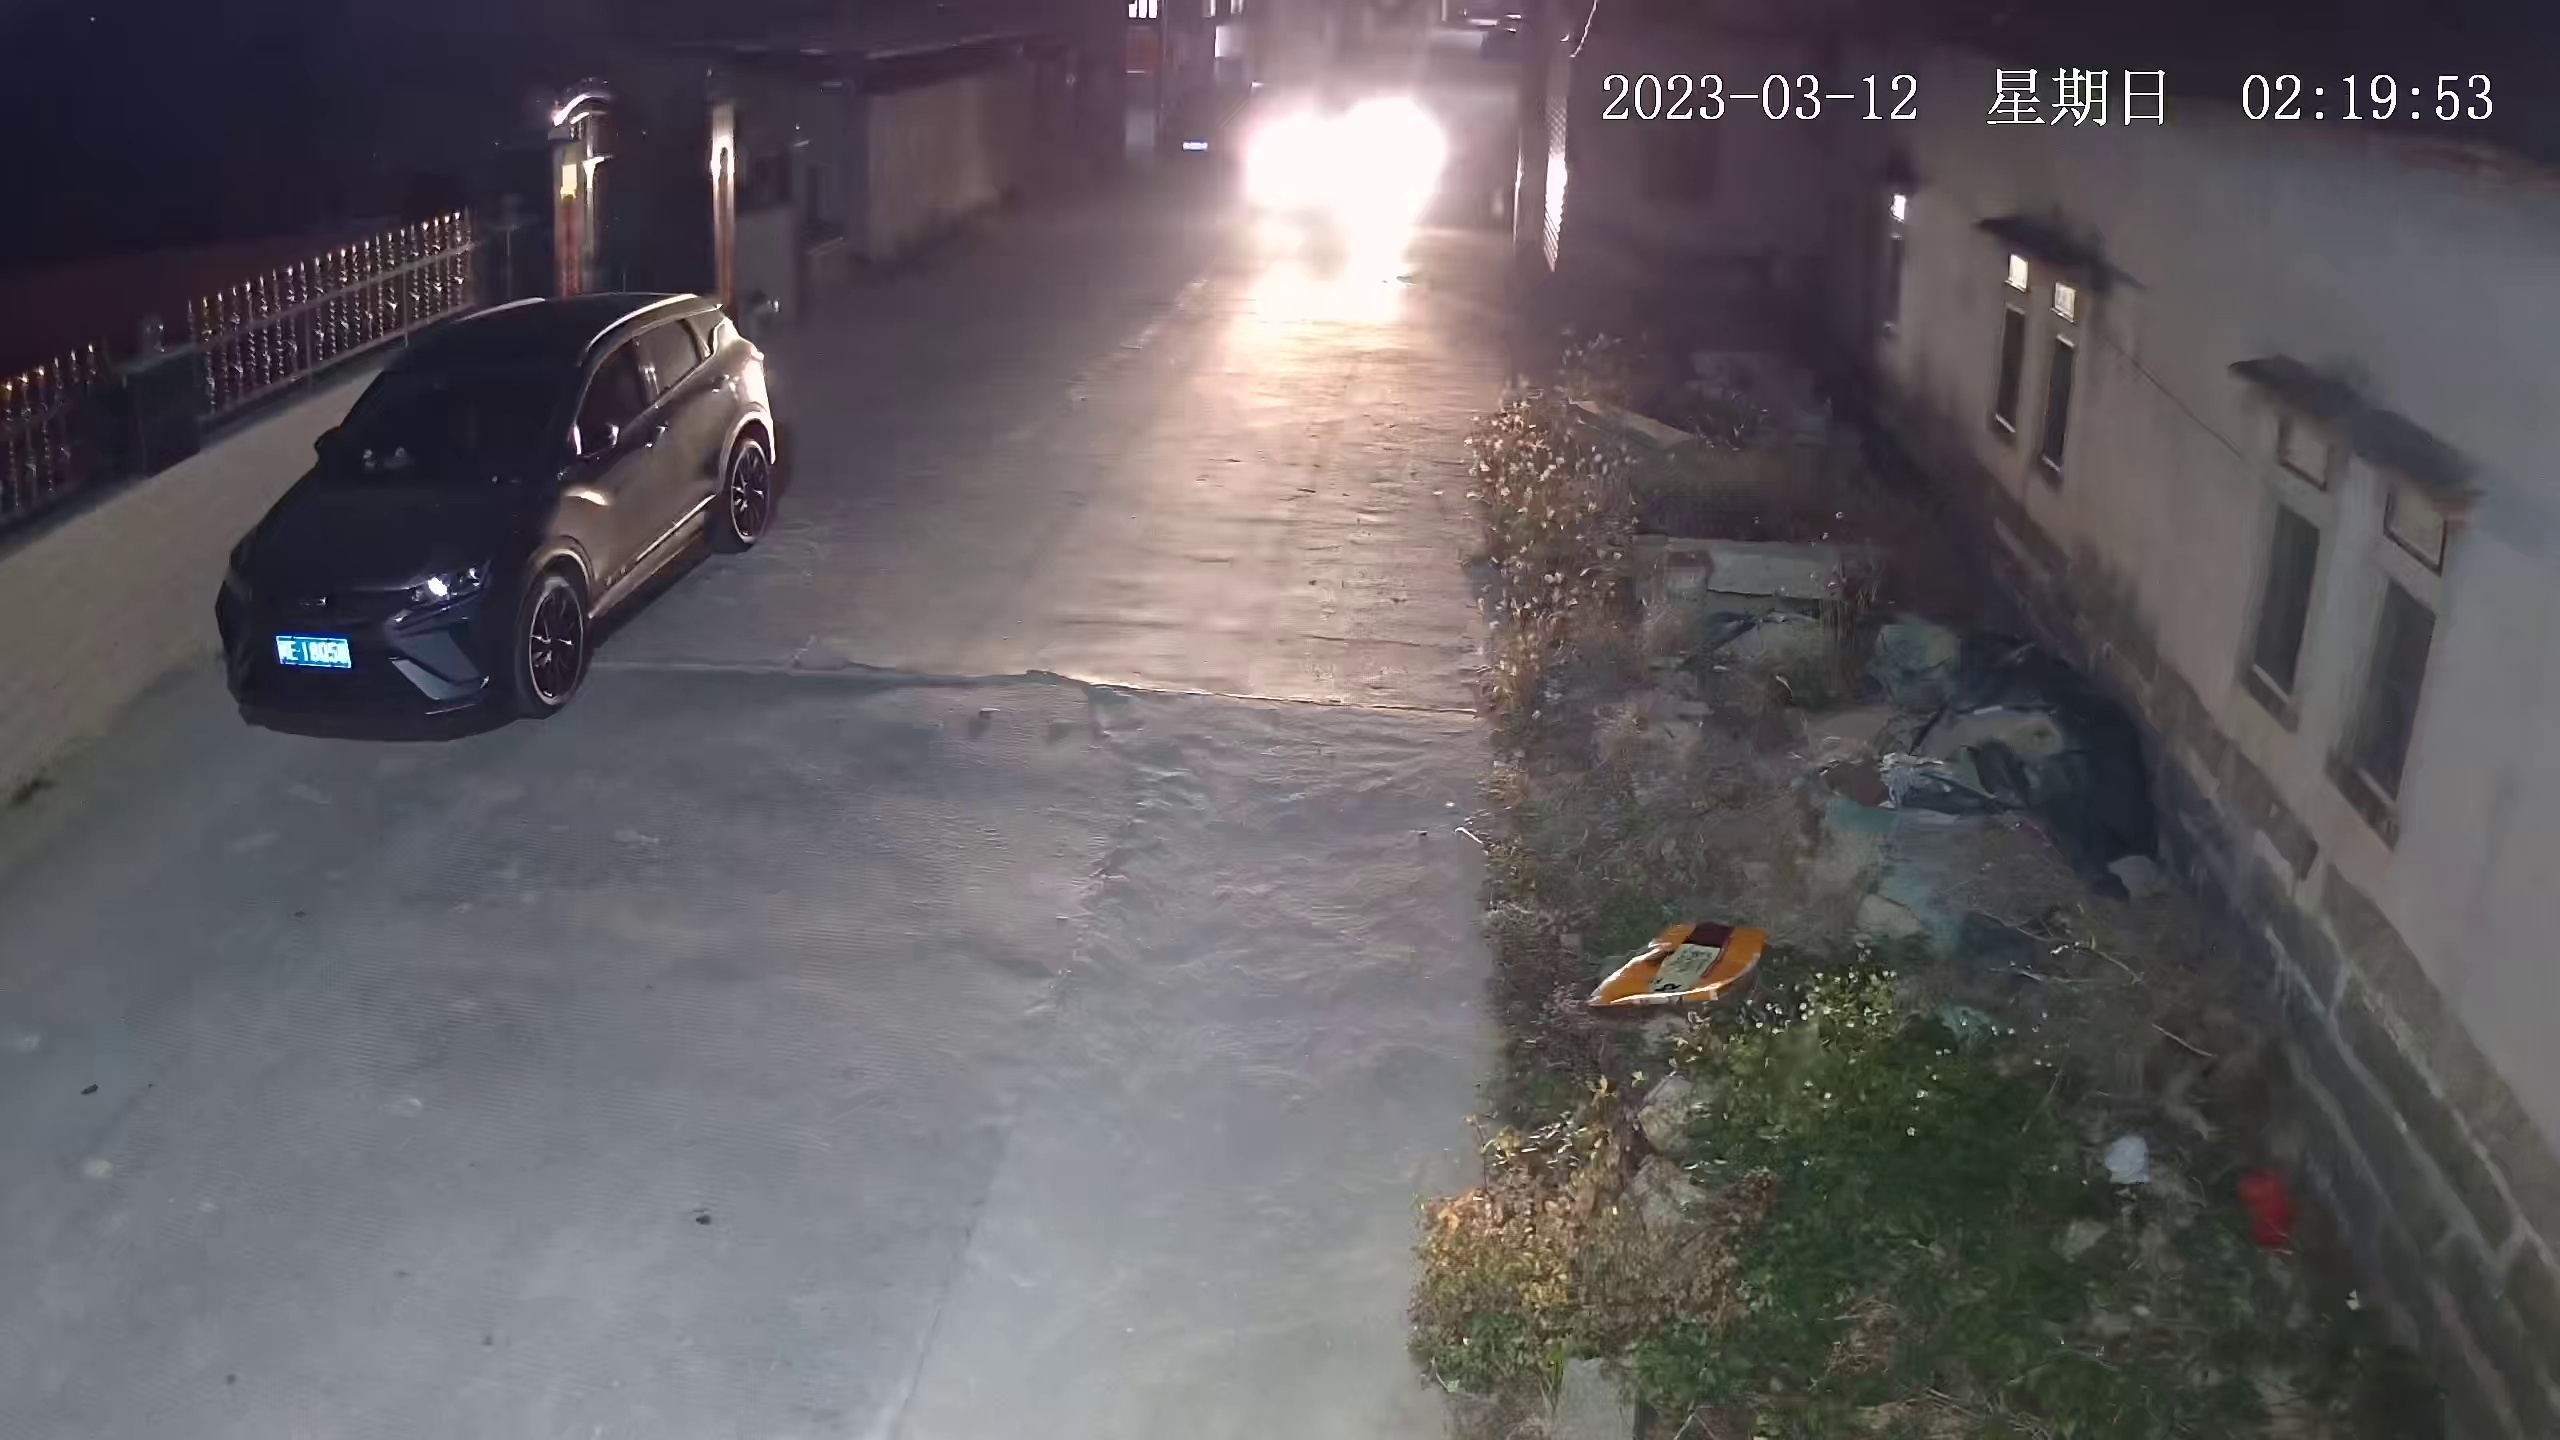sedan: (1255, 77, 1429, 213), (1159, 84, 1243, 169)
suv: (215, 285, 782, 731)
